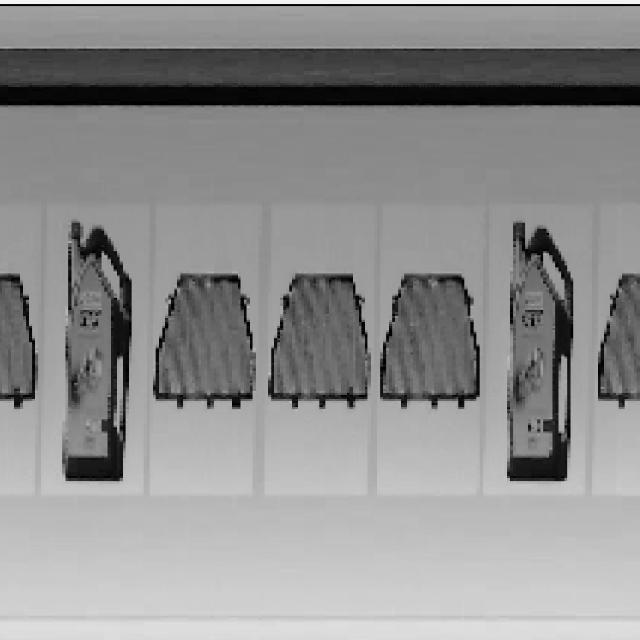air_filter: (266, 265, 372, 416), (152, 267, 258, 416), (377, 278, 481, 416)
motor_oil: (58, 208, 134, 486), (506, 210, 578, 488)
